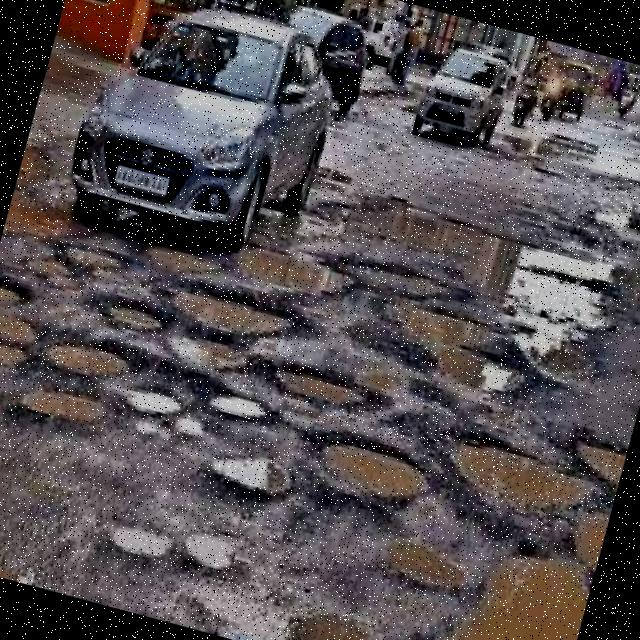pothole: (408, 277, 583, 377), (458, 585, 588, 640), (458, 448, 576, 500), (174, 291, 284, 333), (326, 464, 418, 509), (248, 256, 341, 295), (22, 388, 100, 423), (289, 366, 355, 407), (48, 344, 125, 374), (316, 427, 374, 465)
